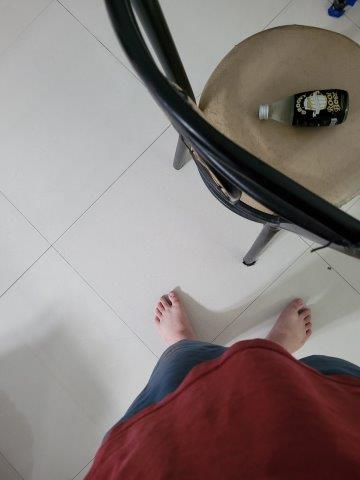botolkaca: (257, 88, 349, 126)
